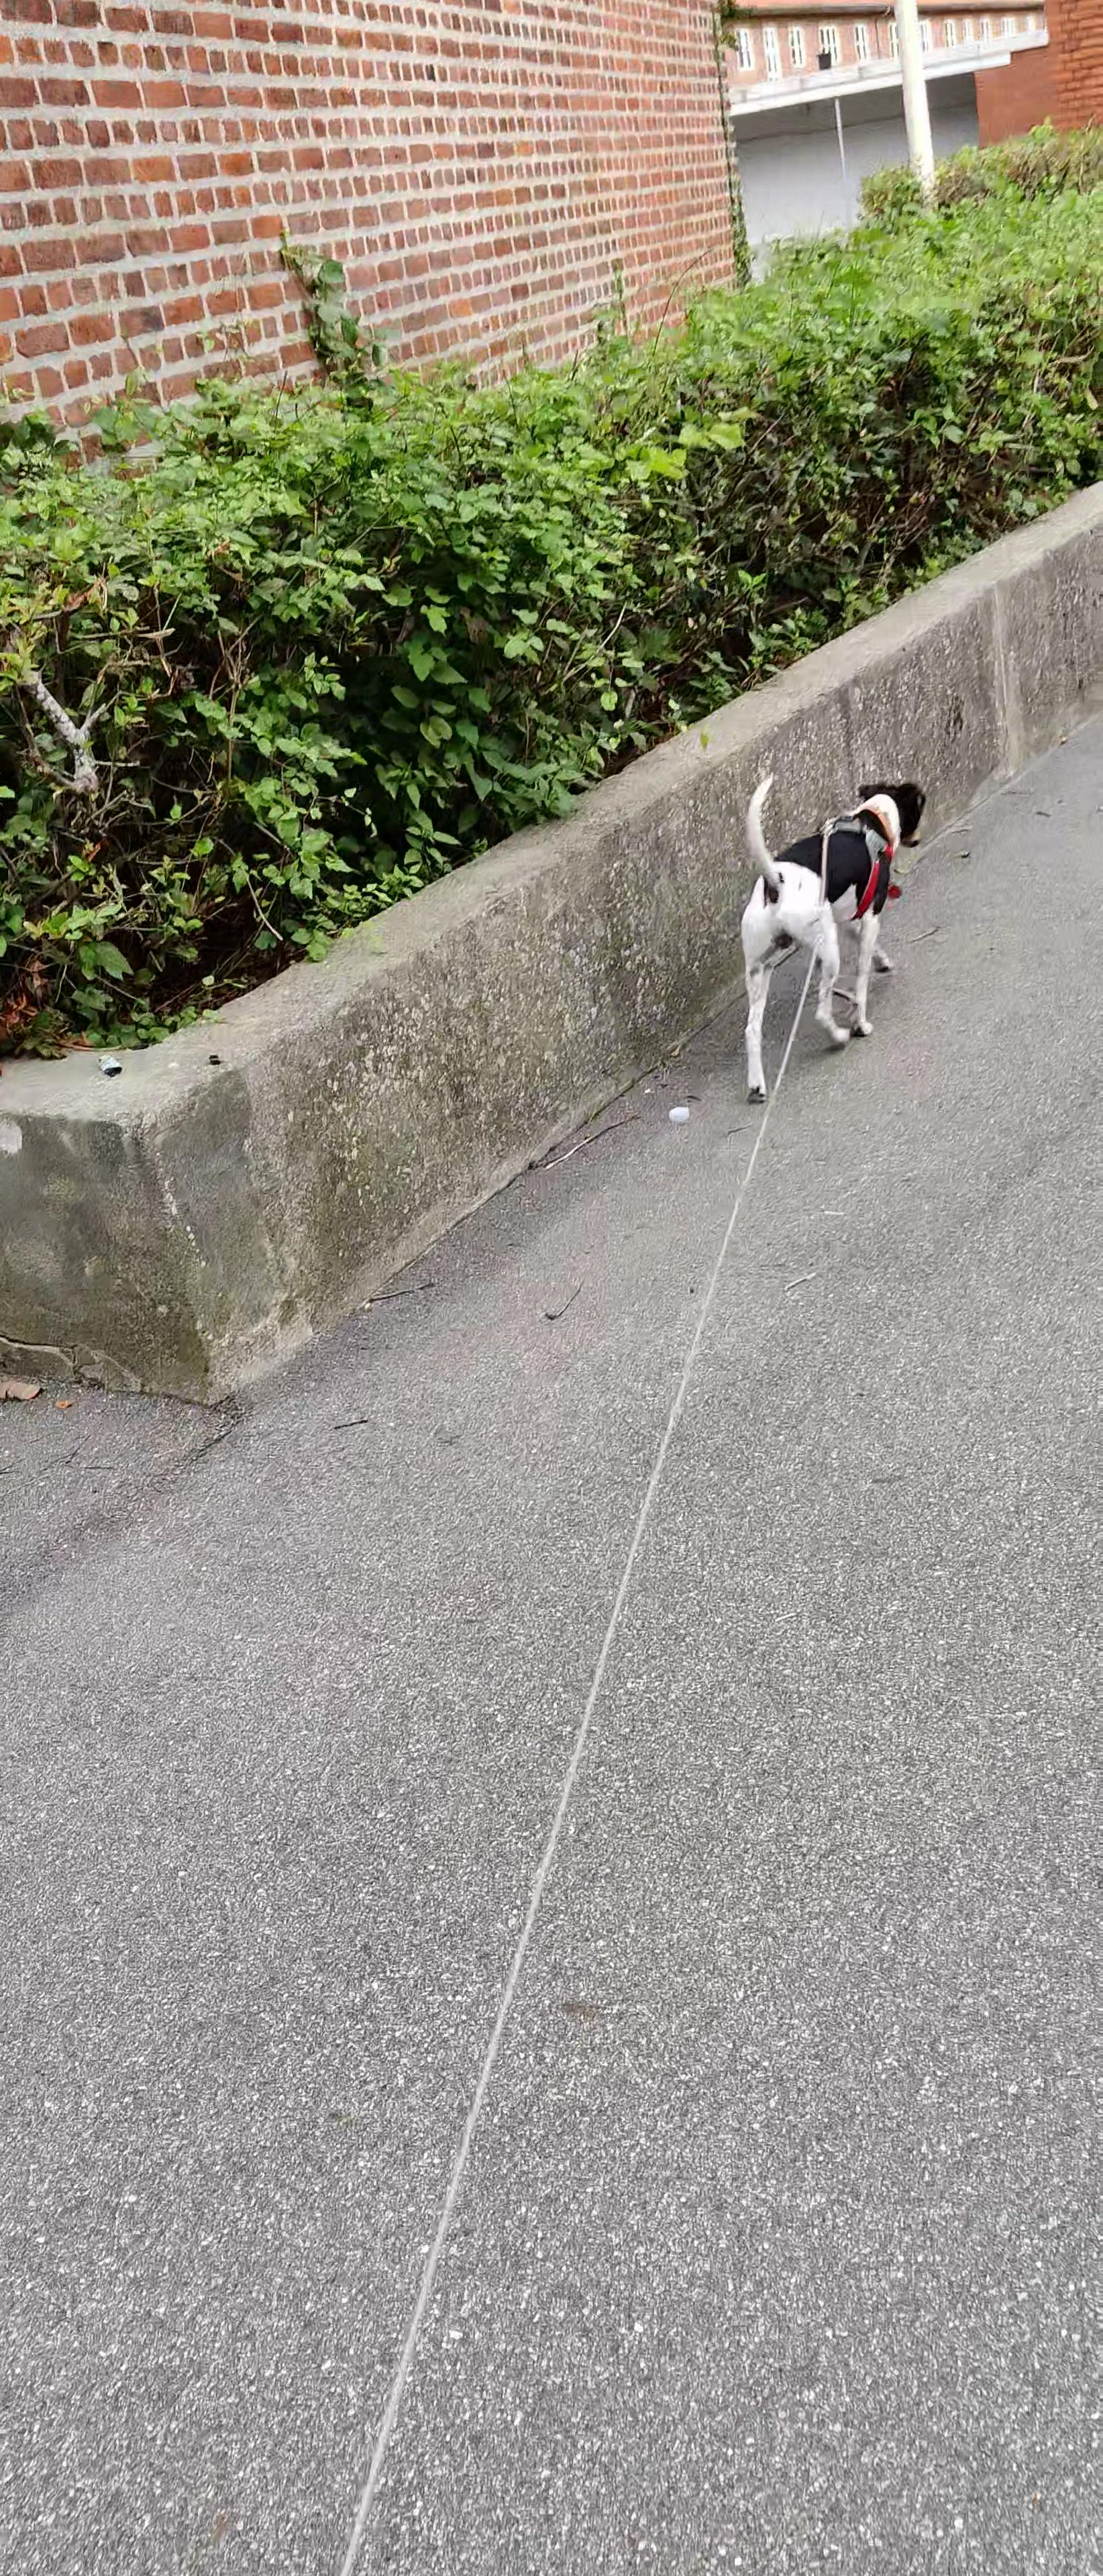Dog: (728, 766, 939, 1111)
